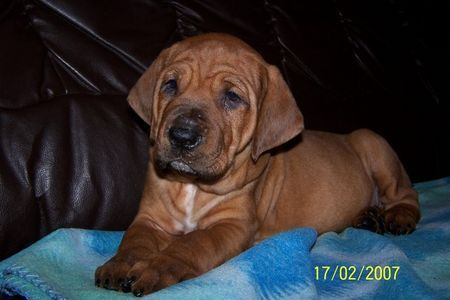tosa_inu: (93, 30, 423, 297)
